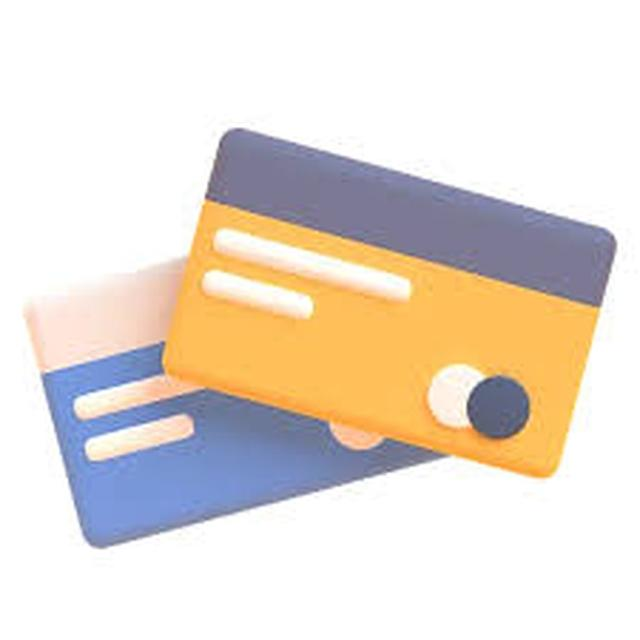card: (141, 109, 625, 504), (13, 237, 476, 556)
